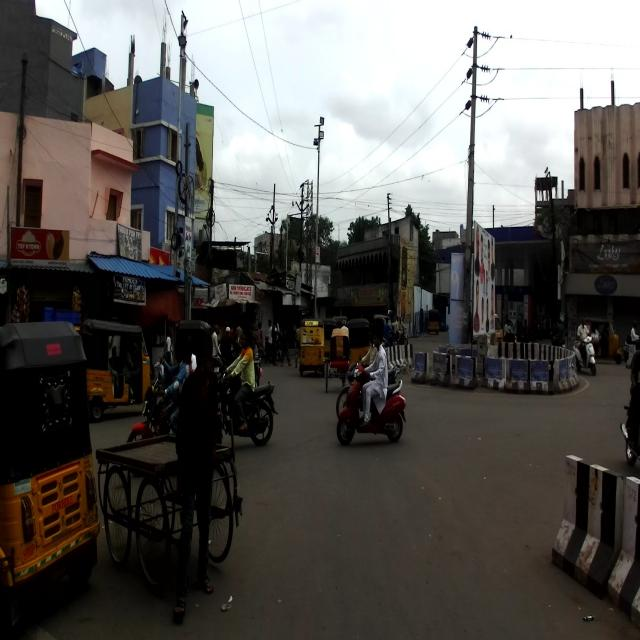autorickshaw: (1, 319, 100, 637), (78, 317, 154, 423)
motorcycle_Hero: (336, 356, 399, 420)
motorcycle_Honda: (211, 363, 278, 447)
motorcycle_Yamaha: (125, 374, 226, 446)
scooter: (337, 356, 406, 444)
